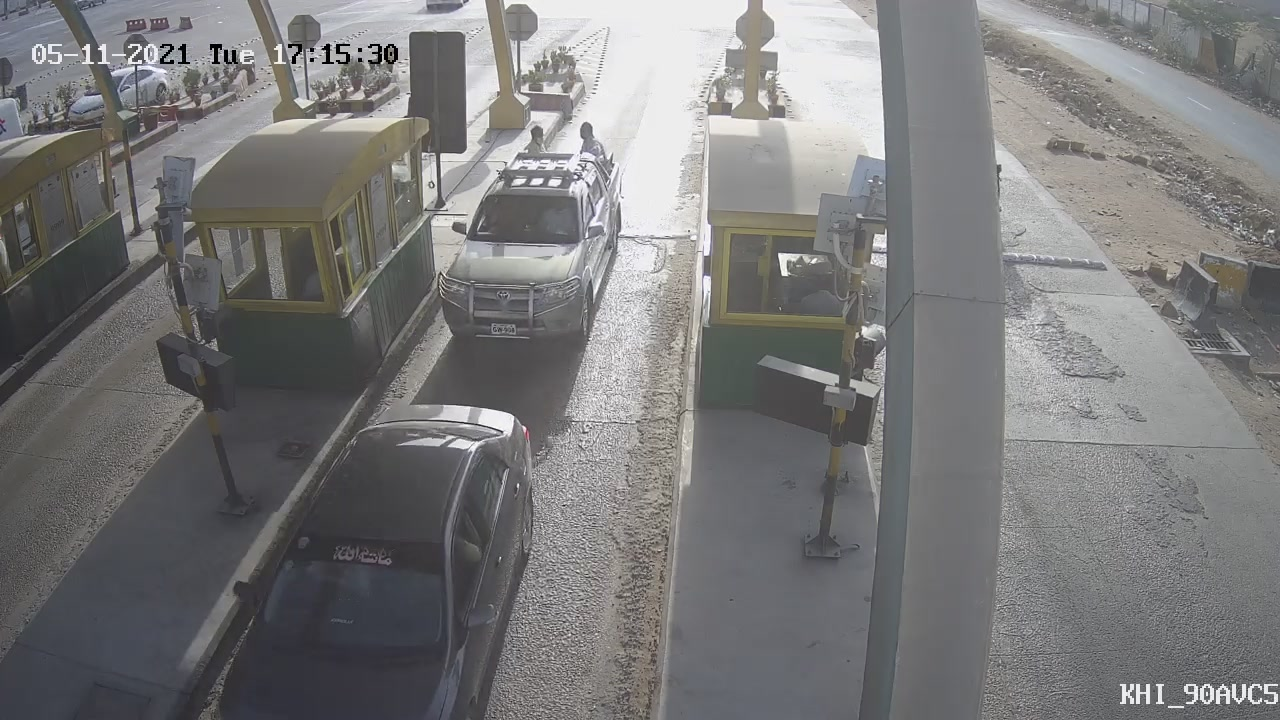F1: (417, 120, 639, 372)
